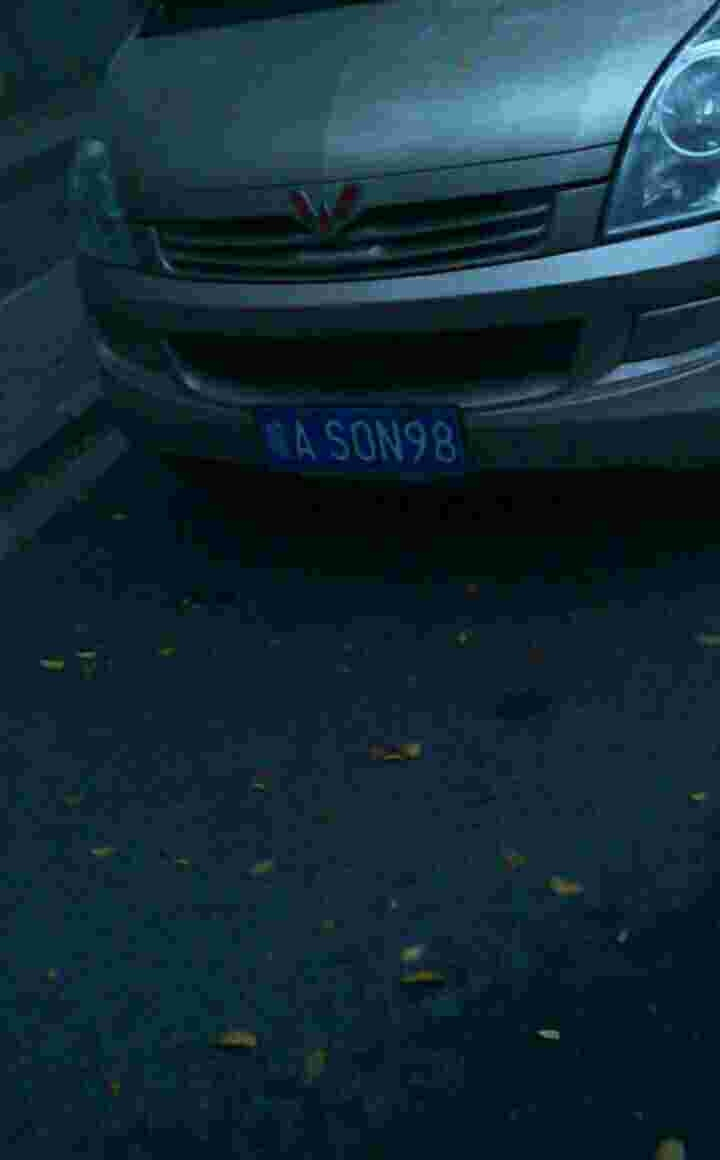license_plate: (242, 400, 468, 474)
